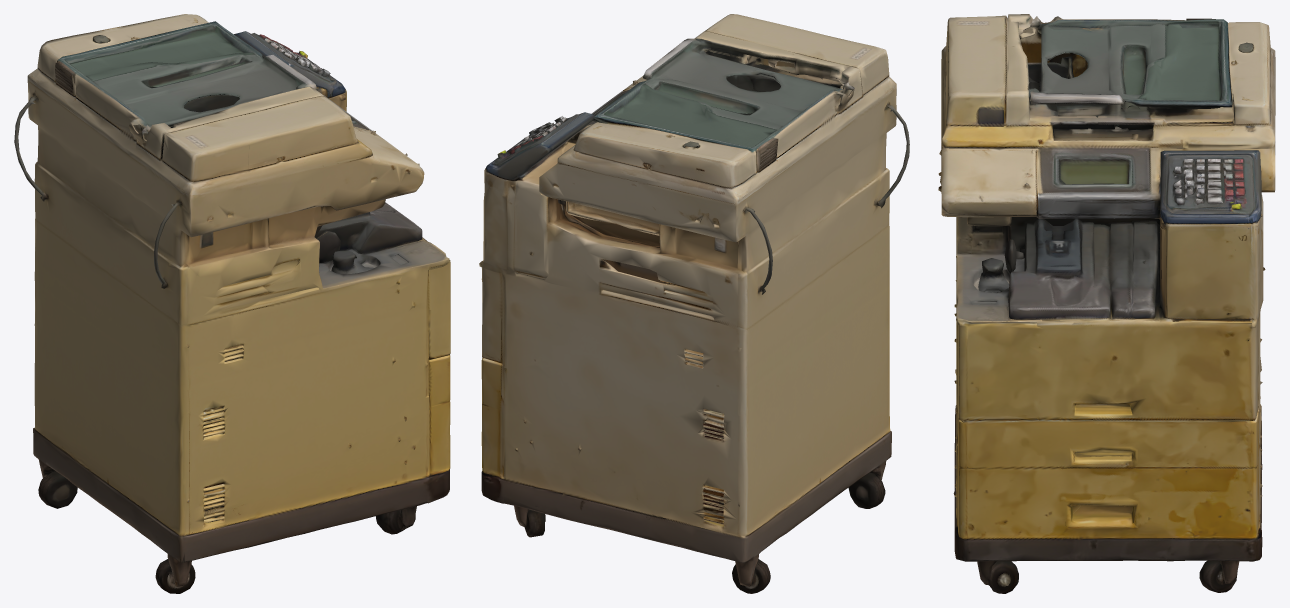
The picture shows the model from 3 angles, left to right: view 1: azimuth 30°, elevation 25°; view 2: azimuth 150°, elevation 25°; view 3: azimuth 270°, elevation 25°; orthographic projection. The views are drawn at different scales.
Visible parts, largest first — view 1: tripo_node_afca9d55-35a6-4469-b256-7dfe7baf8afc; view 2: tripo_node_afca9d55-35a6-4469-b256-7dfe7baf8afc; view 3: tripo_node_afca9d55-35a6-4469-b256-7dfe7baf8afc.
Part boxes in pixels (x1,y1,x2,y2): tripo_node_afca9d55-35a6-4469-b256-7dfe7baf8afc: (14,14,450,593); tripo_node_afca9d55-35a6-4469-b256-7dfe7baf8afc: (479,14,909,593); tripo_node_afca9d55-35a6-4469-b256-7dfe7baf8afc: (938,14,1275,593).
Bounding box in the file's own units: 0.6832 × 1 × 0.6589.
1 material, 1 textured.
